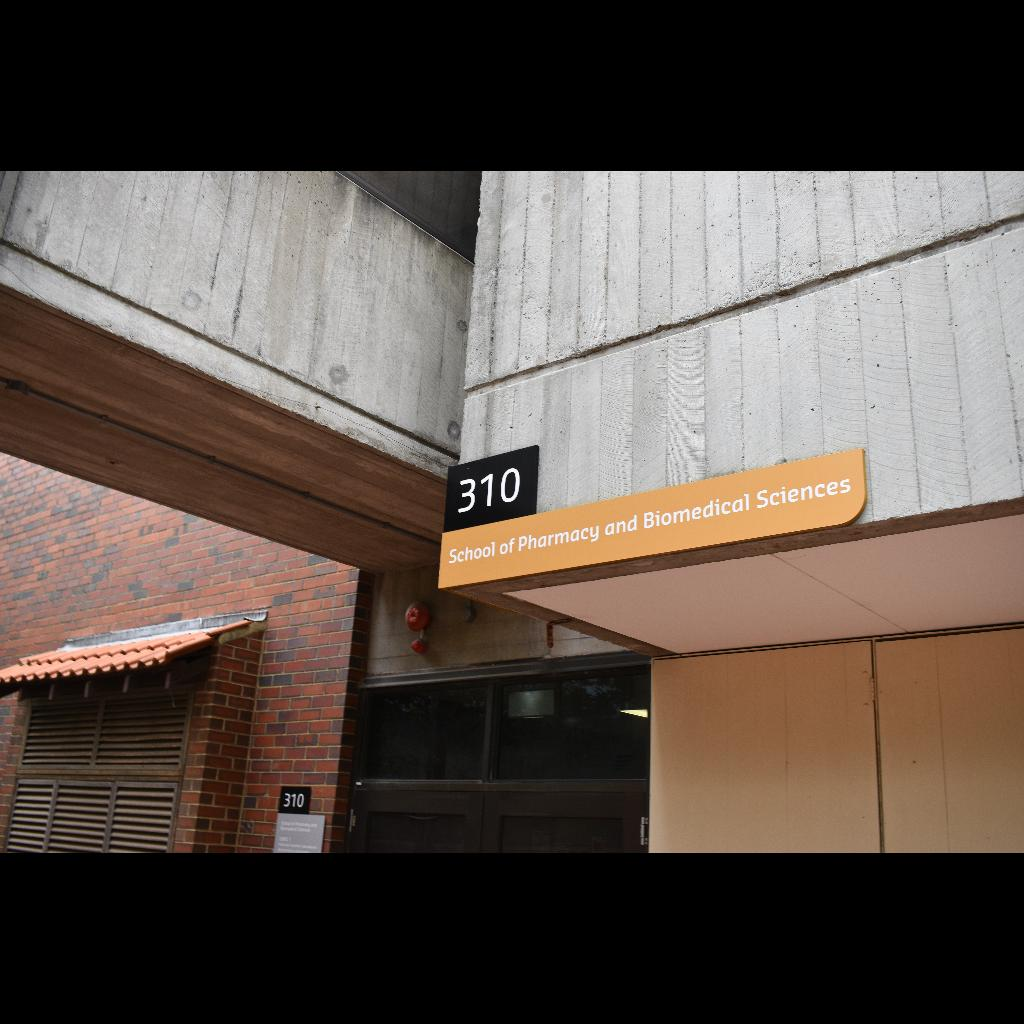BuildingCodes: (454, 465, 526, 519)
